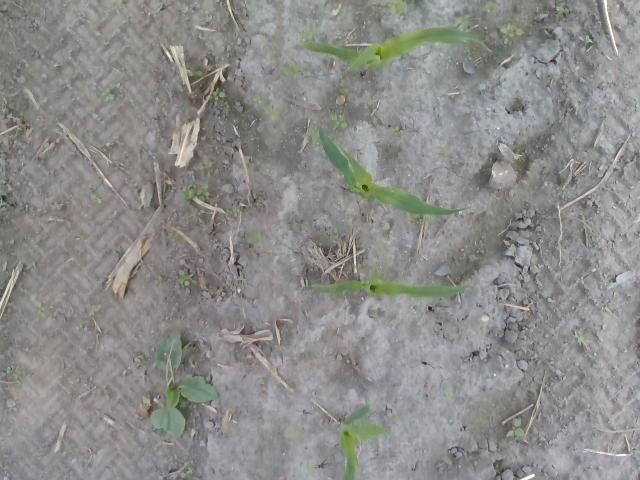Maize: (318, 125, 474, 216), (296, 26, 495, 76), (311, 262, 474, 299), (338, 403, 392, 480)
Weeds: (151, 331, 221, 440), (181, 182, 214, 204), (5, 364, 31, 388), (504, 417, 526, 442), (74, 302, 104, 320), (500, 23, 524, 42), (176, 270, 198, 290), (100, 86, 120, 104), (283, 62, 302, 80), (578, 33, 594, 54), (196, 154, 213, 173), (388, 0, 408, 16), (302, 128, 319, 146), (454, 17, 474, 32), (288, 424, 304, 442), (210, 88, 226, 106), (574, 327, 588, 347), (264, 104, 284, 117), (247, 232, 263, 248), (486, 1, 502, 16), (331, 115, 348, 129), (189, 206, 204, 220), (302, 458, 318, 470), (230, 203, 242, 219), (556, 2, 566, 18), (153, 276, 165, 289), (90, 194, 102, 206), (444, 391, 454, 405), (392, 127, 406, 137), (178, 468, 192, 478), (36, 304, 46, 318), (455, 377, 466, 388), (106, 142, 116, 154), (188, 69, 201, 78), (171, 234, 183, 243), (52, 202, 62, 211), (227, 404, 237, 413), (113, 250, 120, 262), (438, 148, 448, 155), (334, 227, 338, 241)
